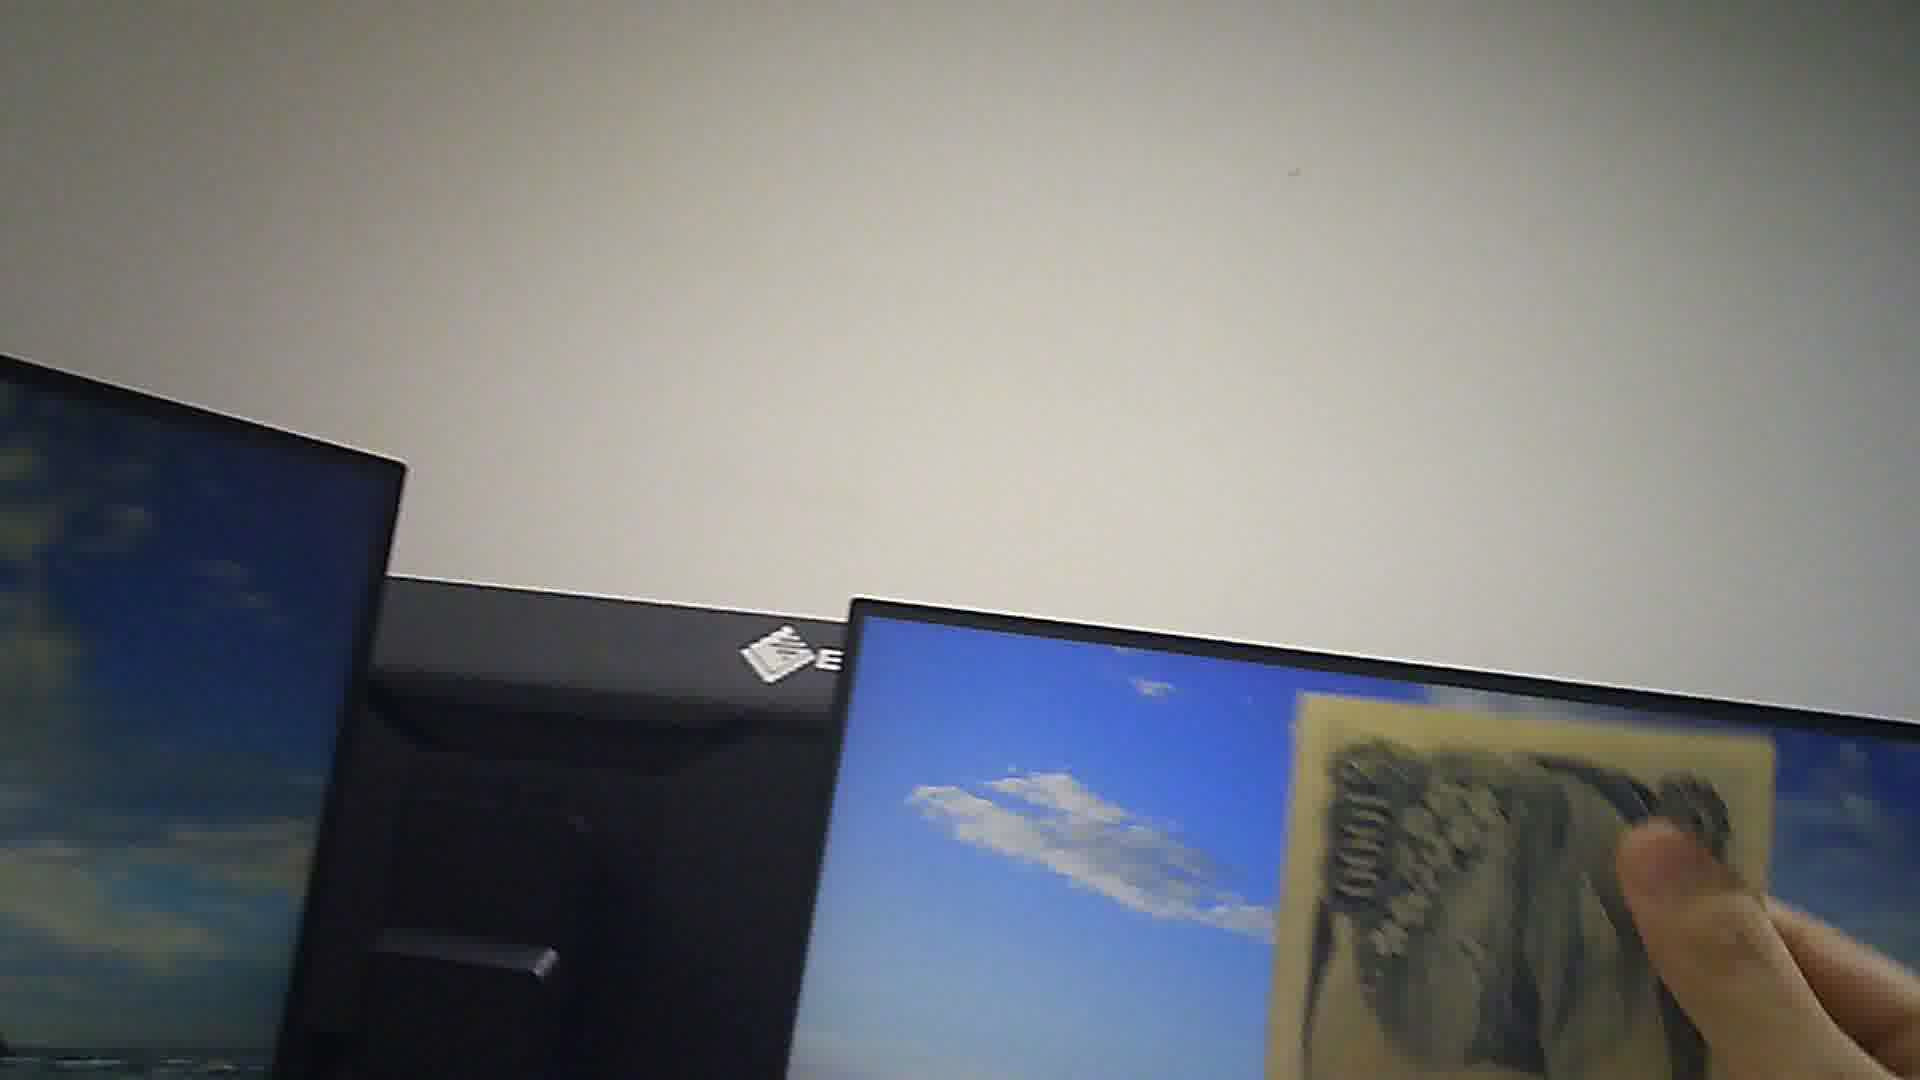1,000 Yen: (1269, 694, 1755, 1073)
